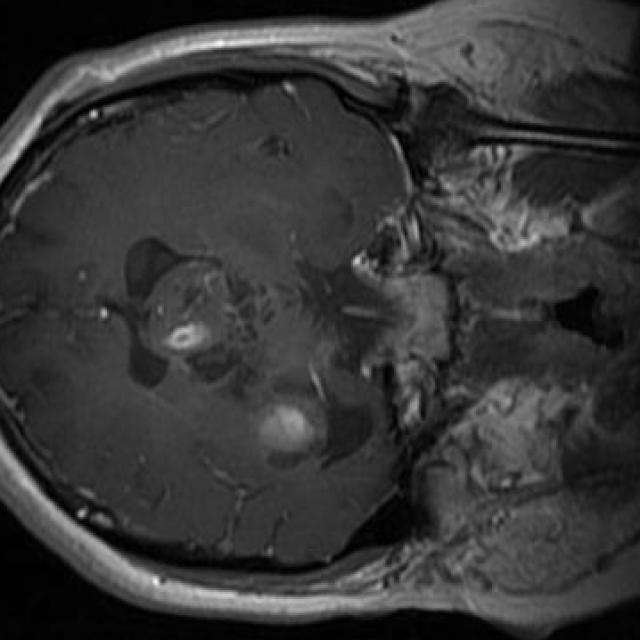glioma: (125, 239, 373, 472)
